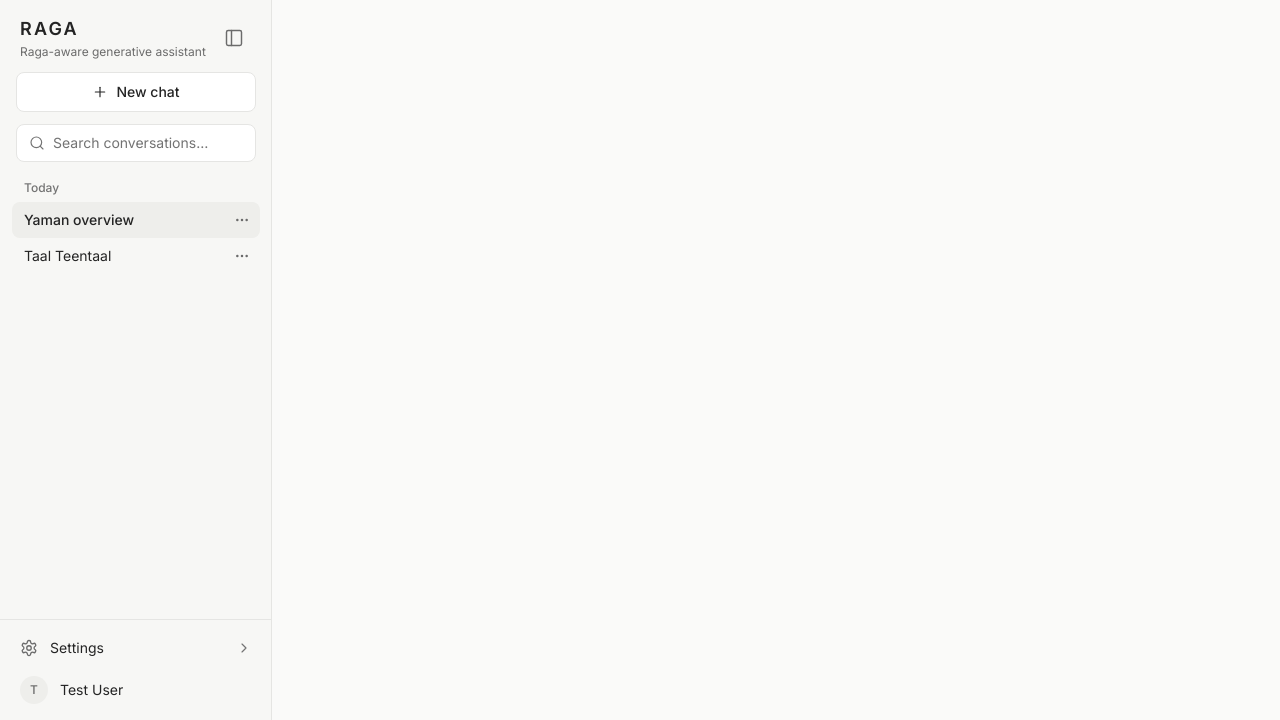
Test case: Sidebar › asks for confirmation before deleting, and cancels cleanly
Click the button named "Options for Yaman overview" at [242, 220], box x1=228 y1=206 x2=256 y2=234
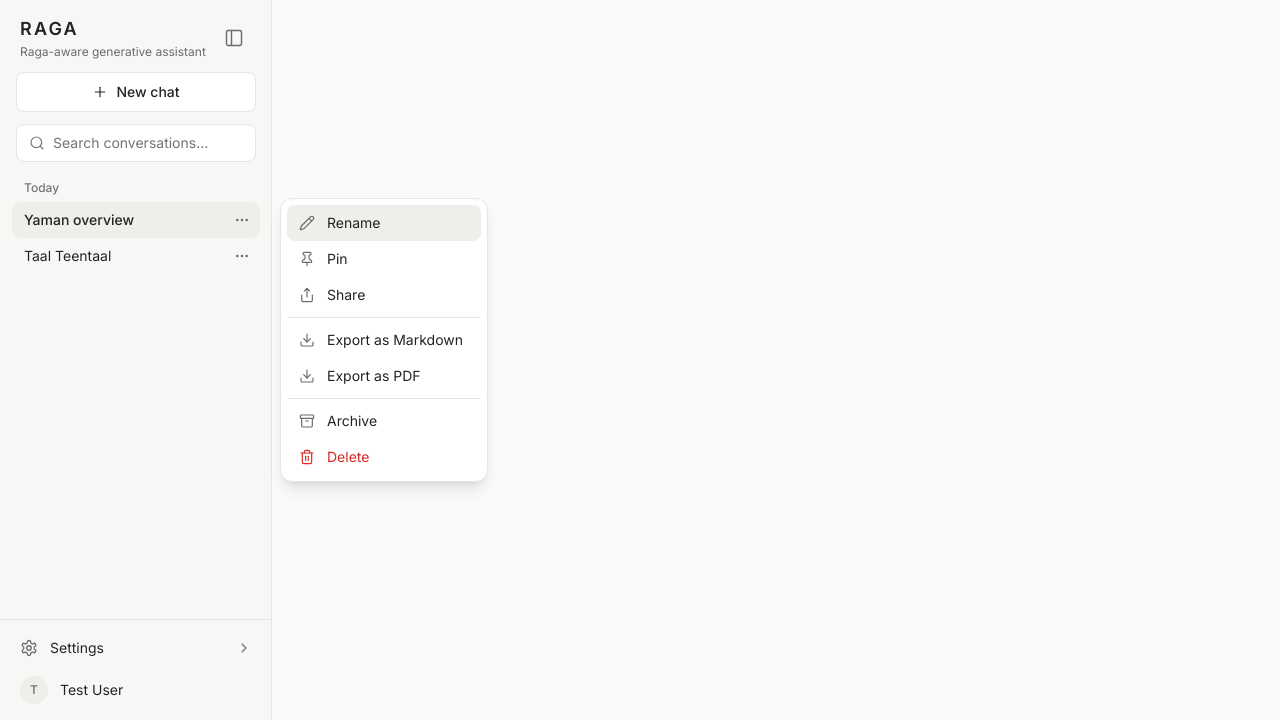
Click the menu item "Delete" at [384, 457], box x1=287 y1=439 x2=481 y2=475
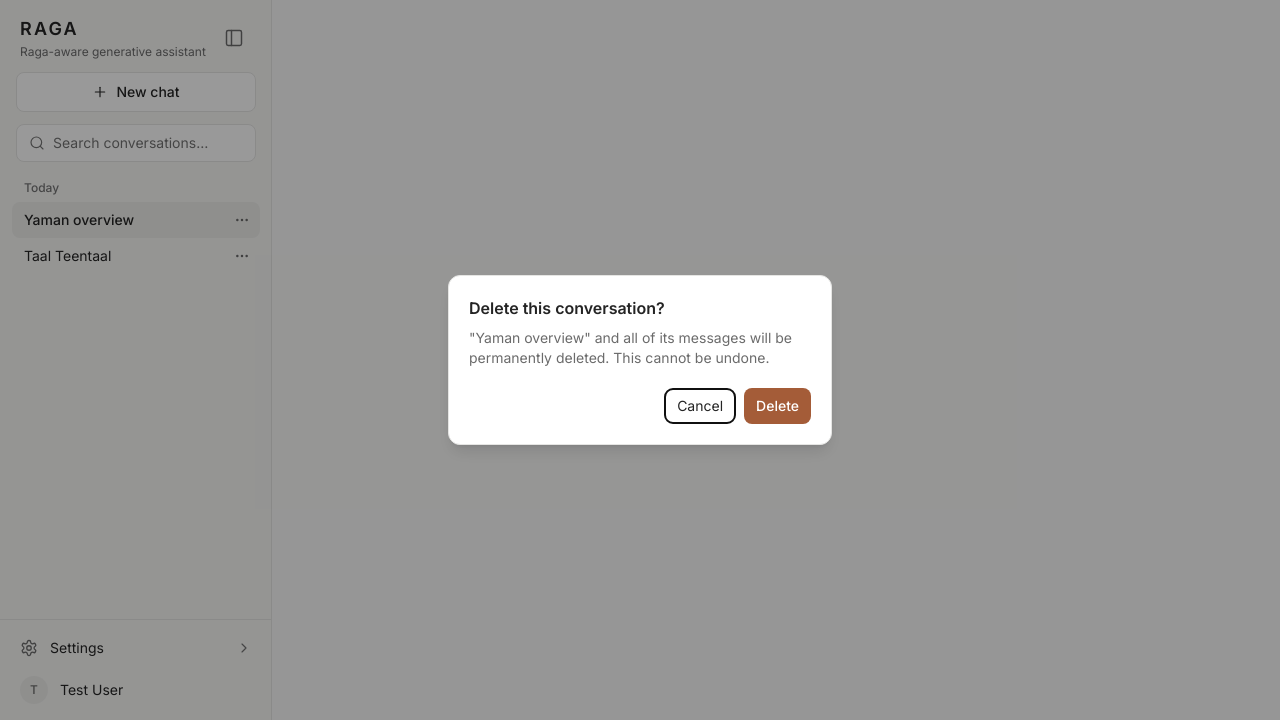
Now the dialog shows "Yaman overview", box x1=469 y1=329 x2=792 y2=366
Click the button "Cancel" at [700, 406], box x1=664 y1=388 x2=736 y2=424
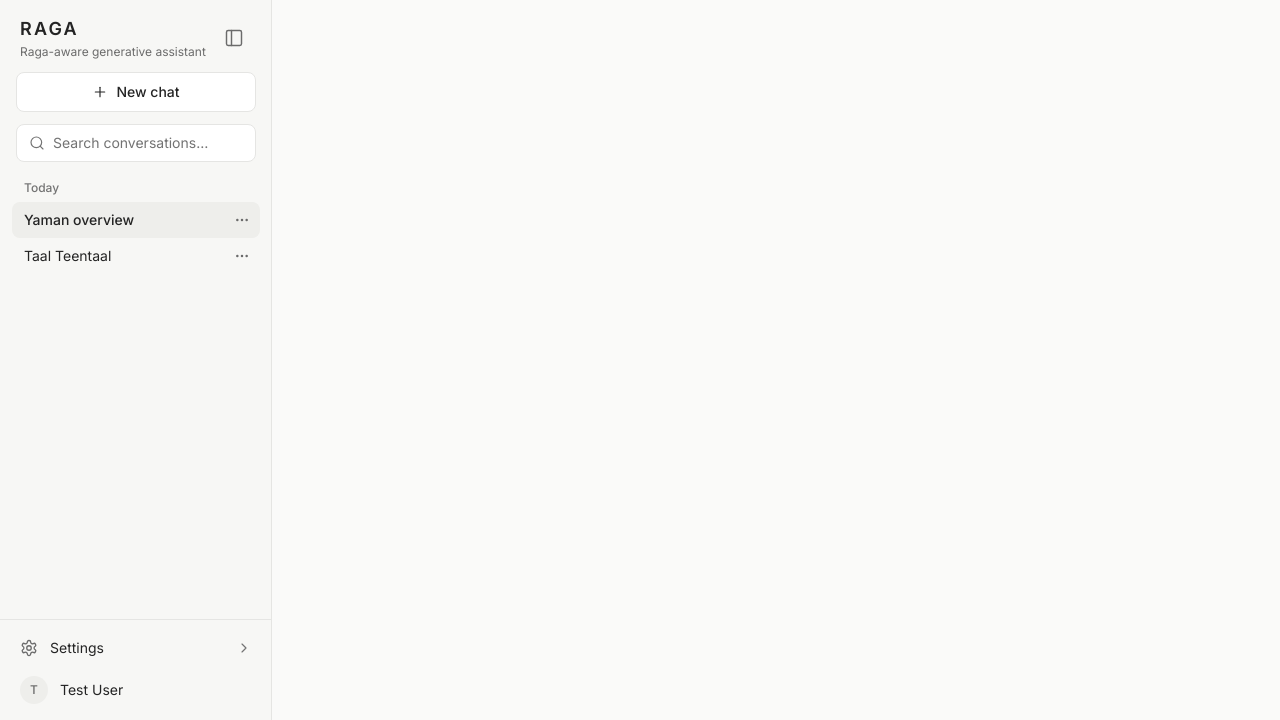
Now the dialog is gone
